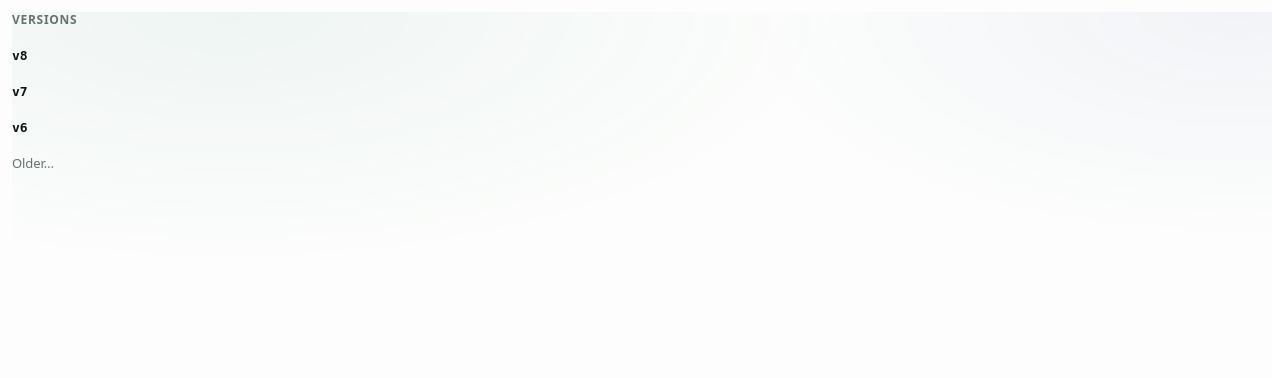
Test case: a long version history shows the latest three, newest first, and the rest on request
What coordinates should you click on to do the following:
click the button "Older…"
I would click on:
 (33, 164)
Its box is top-left (12, 148), bottom-right (54, 180).
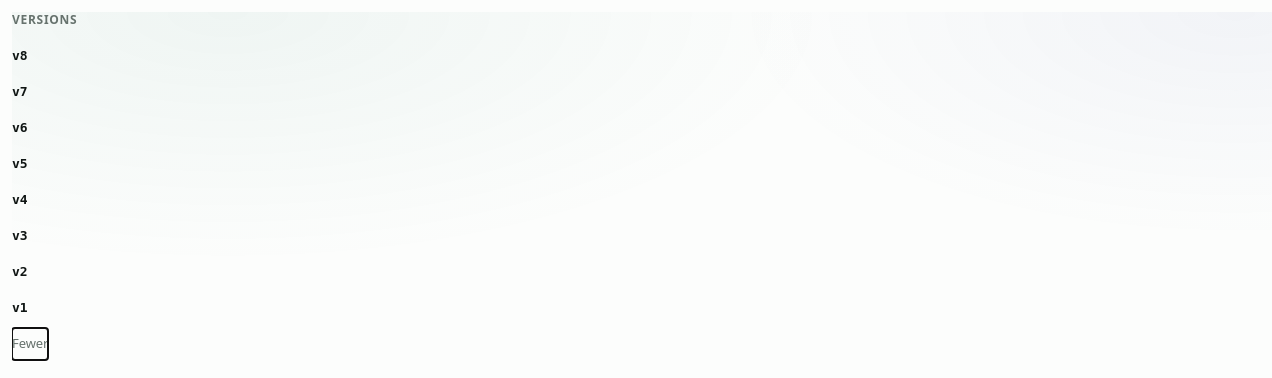
Check: the button "Fewer" is expanded, box top-left (12, 328), bottom-right (48, 360)
